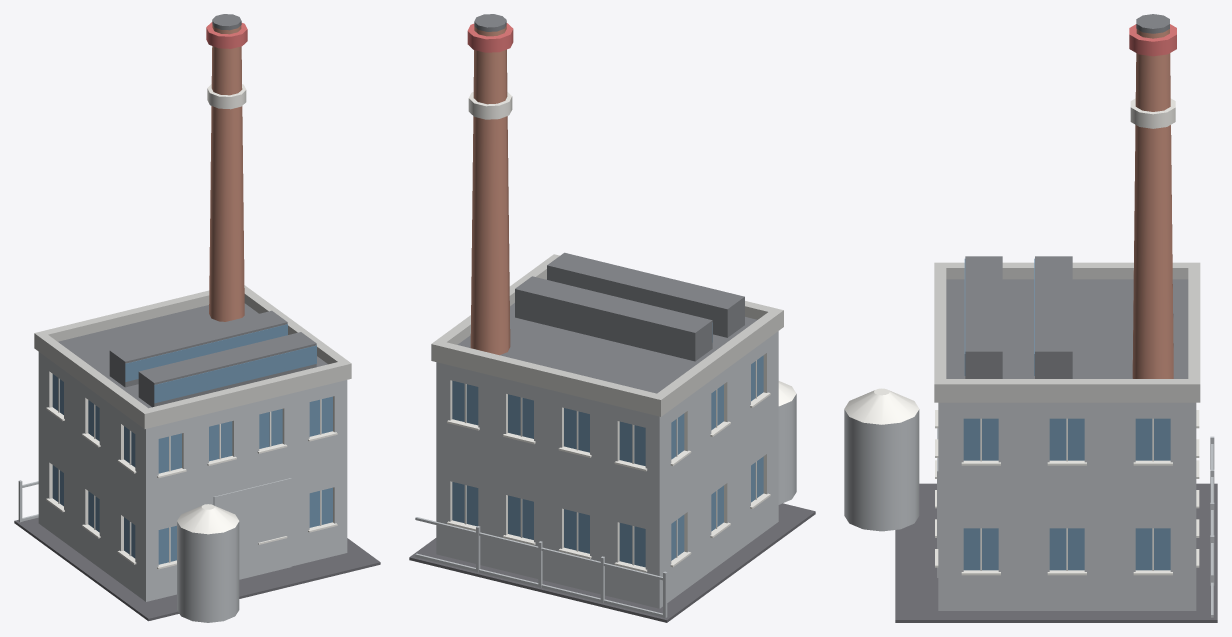
The picture shows the model from 3 angles, left to right: view 1: azimuth 30°, elevation 25°; view 2: azimuth 150°, elevation 25°; view 3: azimuth 270°, elevation 25°; orthographic projection. The views are drawn at different scales.
Parts seen in each view (by area): view 1: i_3_1_b; view 2: i_3_1_b; view 3: i_3_1_b.
Boxes of the visible parts, x1,y1,x2,y2 form: i_3_1_b: (14, 14, 380, 622); i_3_1_b: (409, 14, 815, 622); i_3_1_b: (844, 14, 1217, 622).
Size of the model in its own units: 12 by 23.58 by 13.9.
